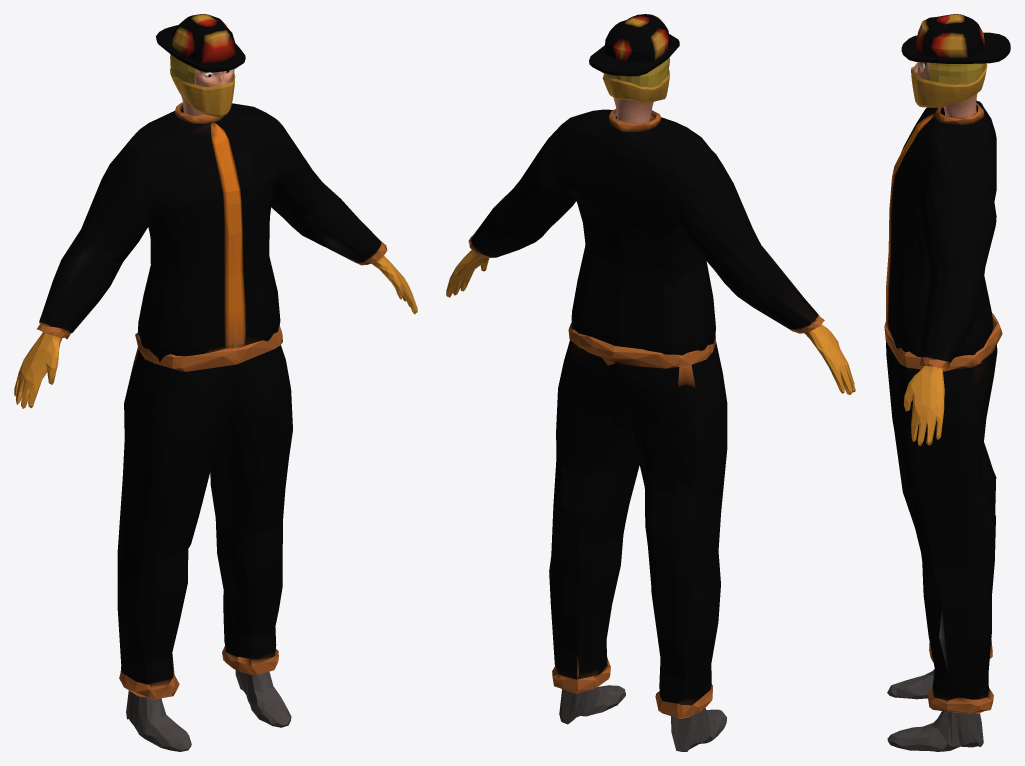
The model's file is firefighter 1.fbx.
3 views of the same model, side by side, from view 1: azimuth 30°, elevation 25°; view 2: azimuth 150°, elevation 25°; view 3: azimuth 270°, elevation 25° (orthographic).
Visible parts, largest first — view 1: Cube.005; view 2: Cube.005; view 3: Cube.005.
Part boxes in pixels (<box>): Cube.005: <box>14,14,417,751</box>; Cube.005: <box>446,14,855,751</box>; Cube.005: <box>884,14,1010,751</box>.
Bounding box in the file's own units: 1458 × 2445 × 398.
